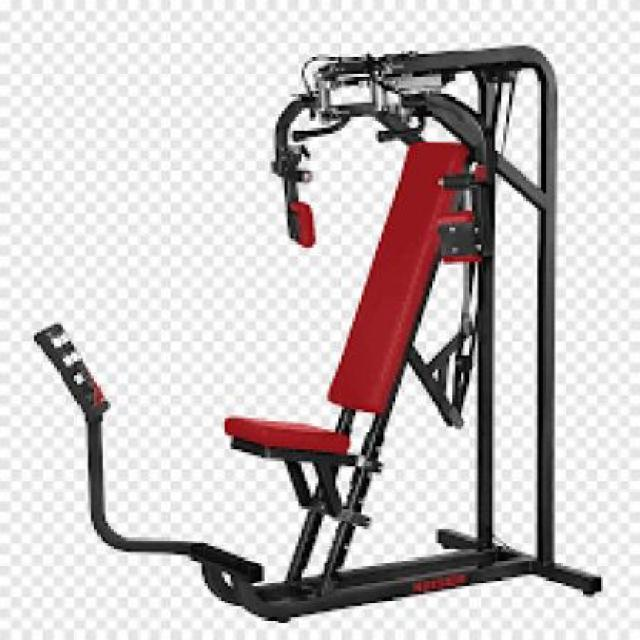chest fly machine: (23, 31, 622, 624)
